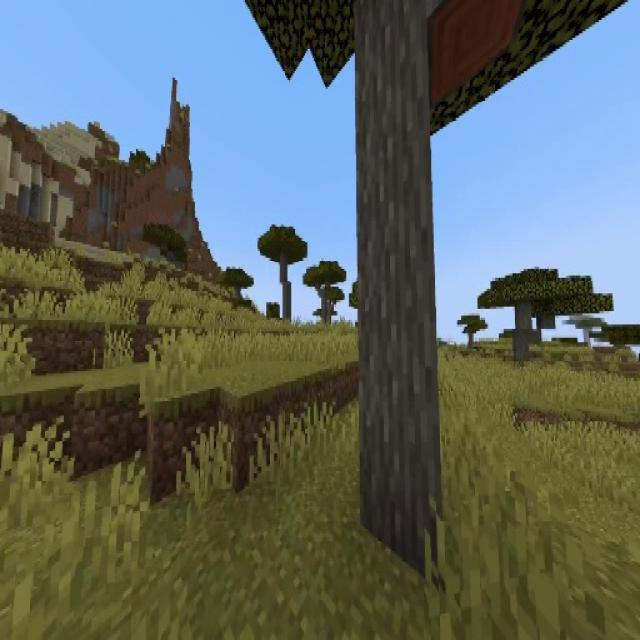acacia: (480, 268, 611, 366), (258, 225, 308, 323)
acacia_log: (355, 0, 443, 600), (512, 303, 536, 365), (280, 258, 292, 322)
